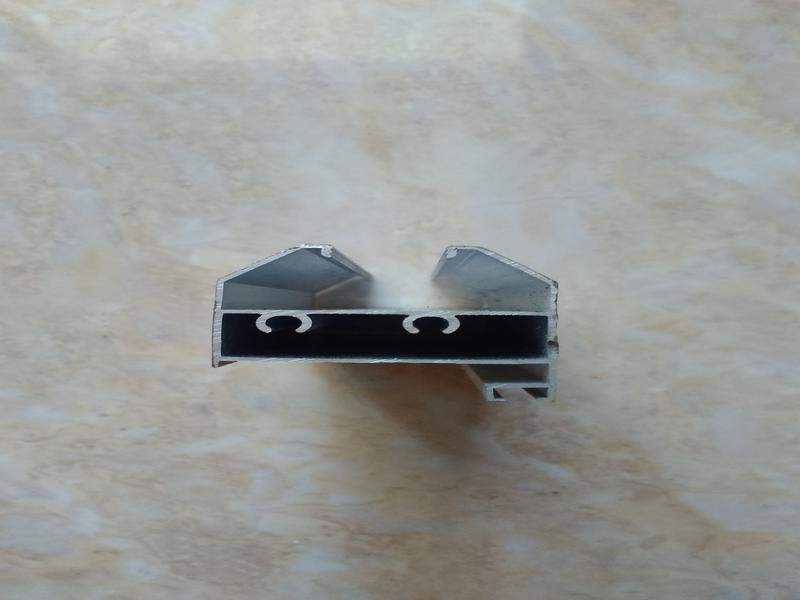Aluminium_3: (172, 194, 623, 444)
